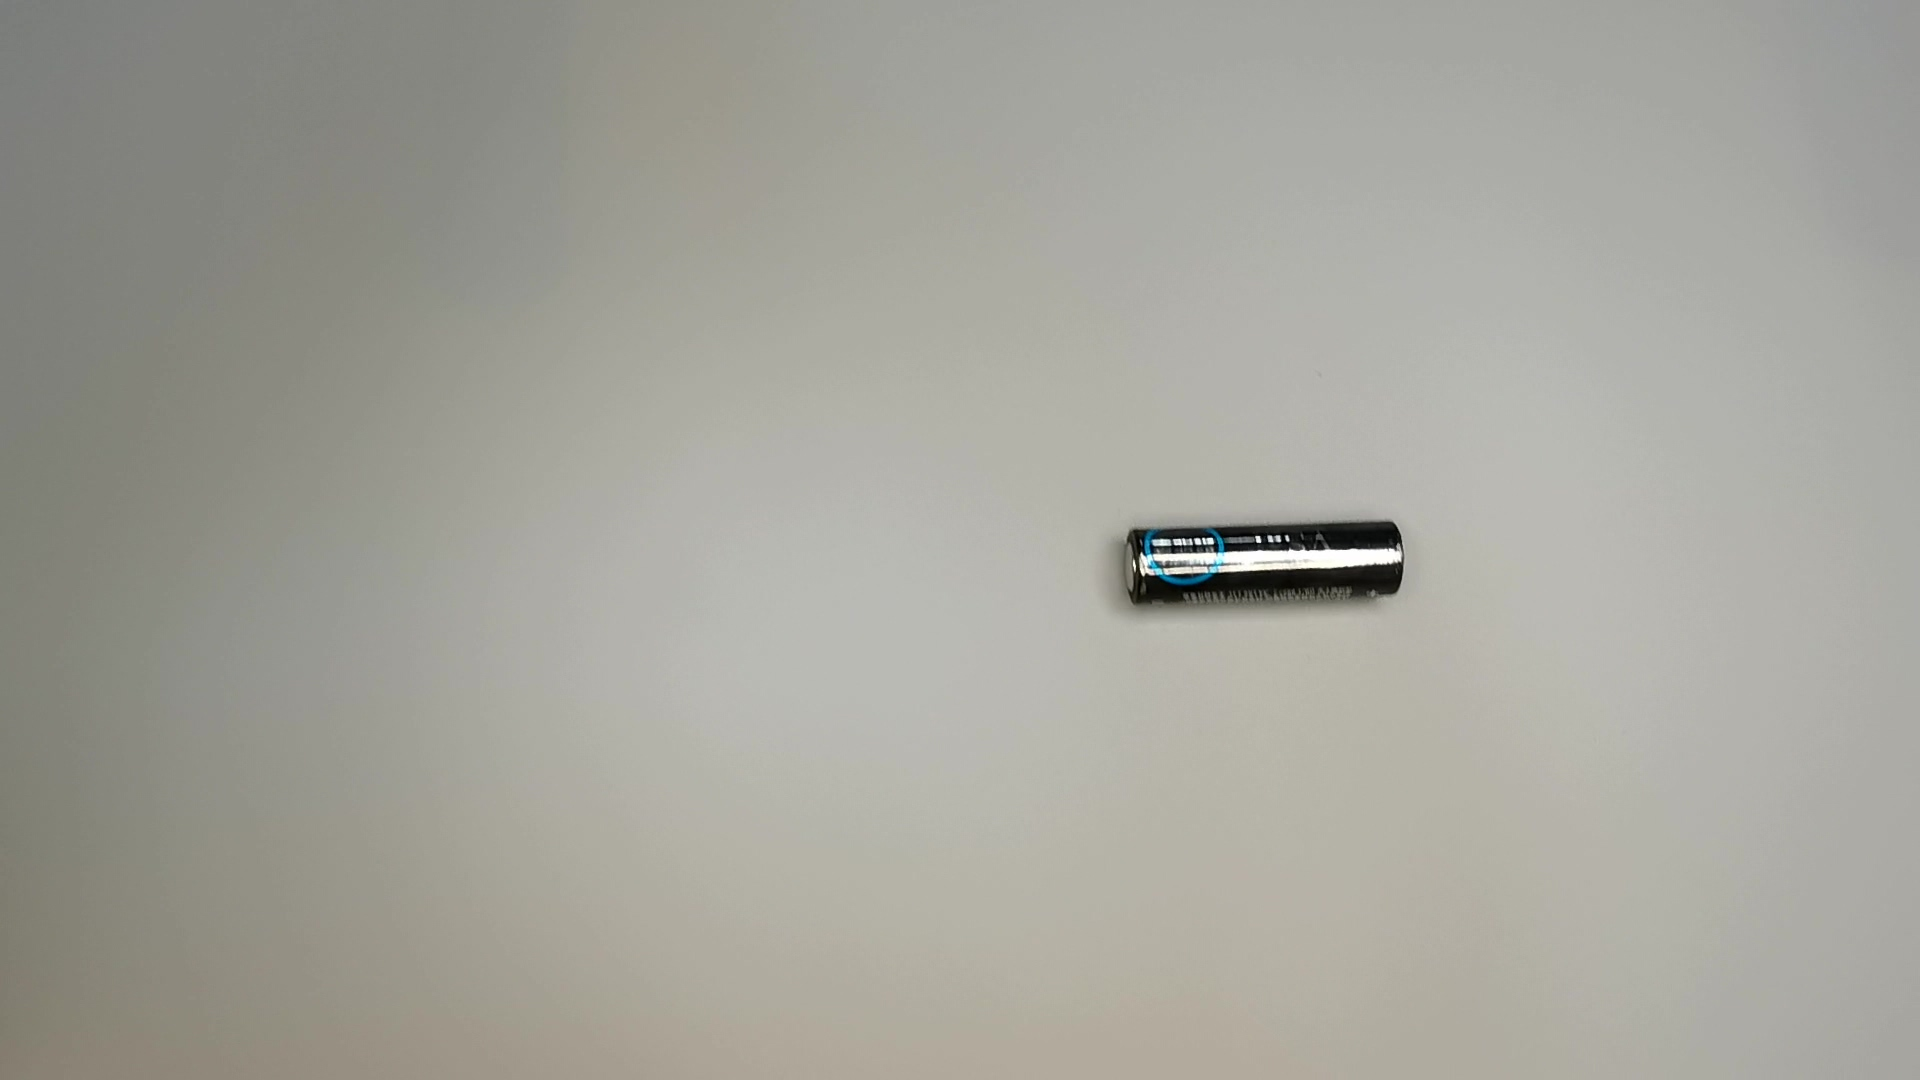battery: (1106, 516, 1415, 617)
